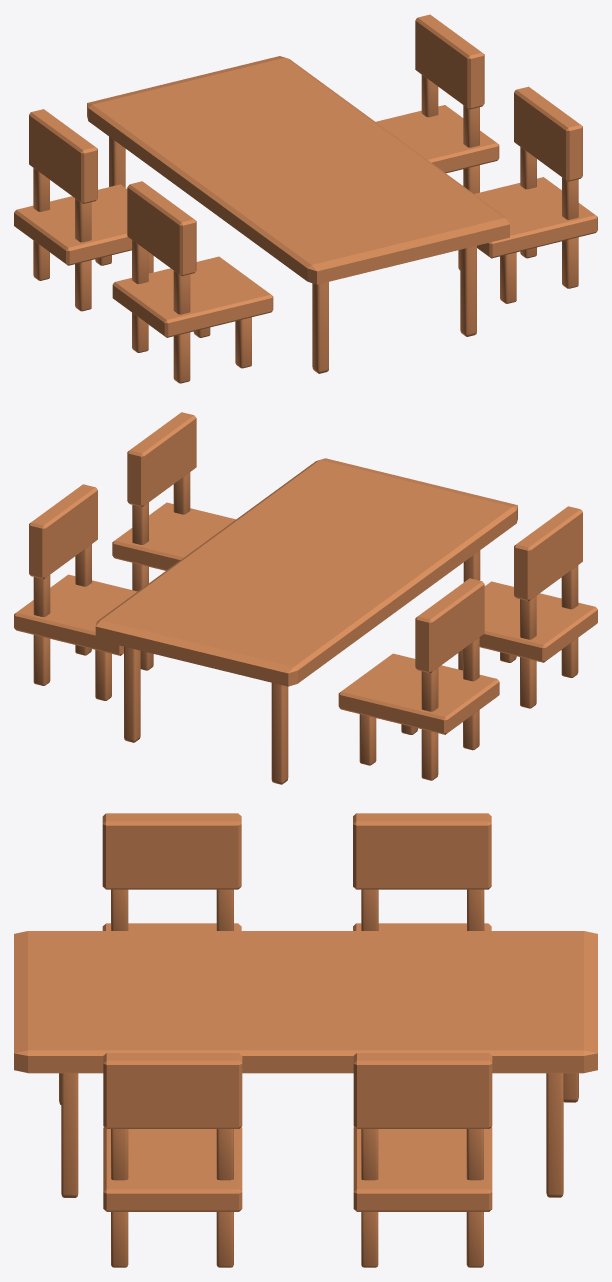
The model's file is Props_TableChair_Canteen.fbx.
3 views of the same model, one above another, from view 1: azimuth 30°, elevation 25°; view 2: azimuth 150°, elevation 25°; view 3: azimuth 270°, elevation 25° (orthographic). The views are drawn at different scales.
Parts seen in each view (by area): view 1: Props_TableChair_Canteen; view 2: Props_TableChair_Canteen; view 3: Props_TableChair_Canteen.
Part boxes in pixels (x1,y1,x2,y2): Props_TableChair_Canteen: (14, 14, 597, 383); Props_TableChair_Canteen: (14, 412, 597, 784); Props_TableChair_Canteen: (14, 813, 597, 1267).
Size of the model in its own units: 246 by 91.15 by 226.
